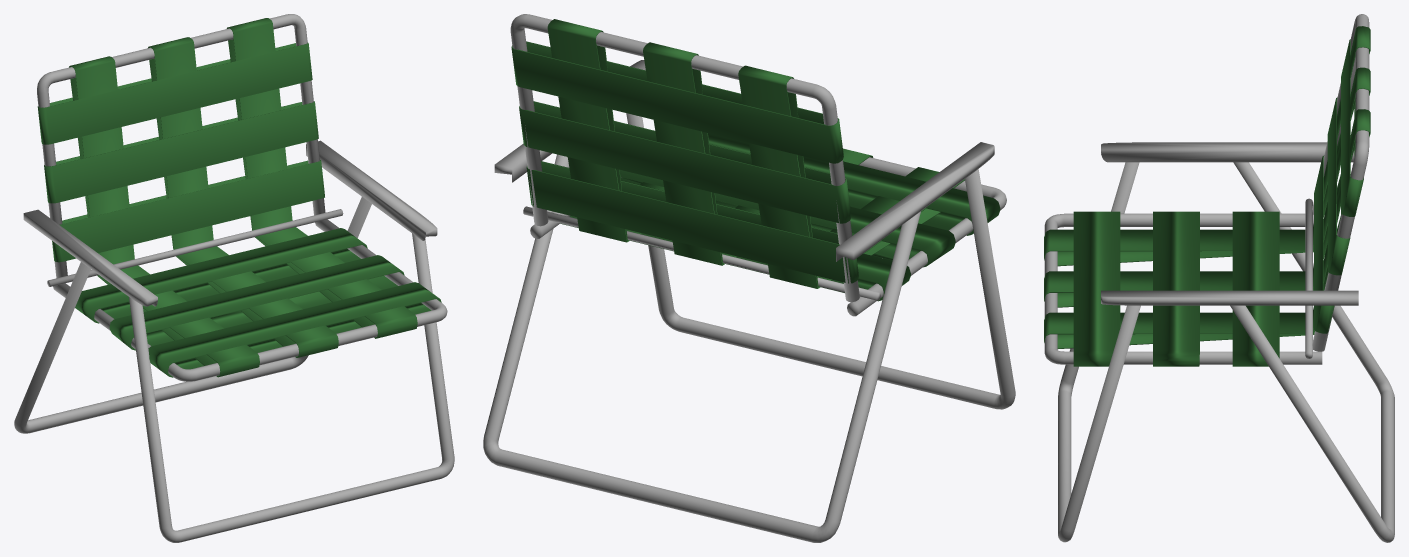
File: chair_compressed.glb
3 renders of one model, left to right at view 1: azimuth 30°, elevation 25°; view 2: azimuth 150°, elevation 25°; view 3: azimuth 270°, elevation 25°, orthographic. The views are drawn at different scales.
Parts seen in each view (by area): view 1: Object_6, Object_4; view 2: Object_6, Object_4; view 3: Object_6, Object_4.
Part boxes in pixels (bbox=[...]): Object_6: bbox=[37, 18, 441, 377]; Object_4: bbox=[14, 14, 454, 542]; Object_6: bbox=[511, 19, 1000, 301]; Object_4: bbox=[483, 14, 1015, 542]; Object_6: bbox=[1044, 26, 1370, 366]; Object_4: bbox=[1044, 14, 1394, 542].
Bounding box in the file's own units: 1.8 × 2.13 × 1.71.
